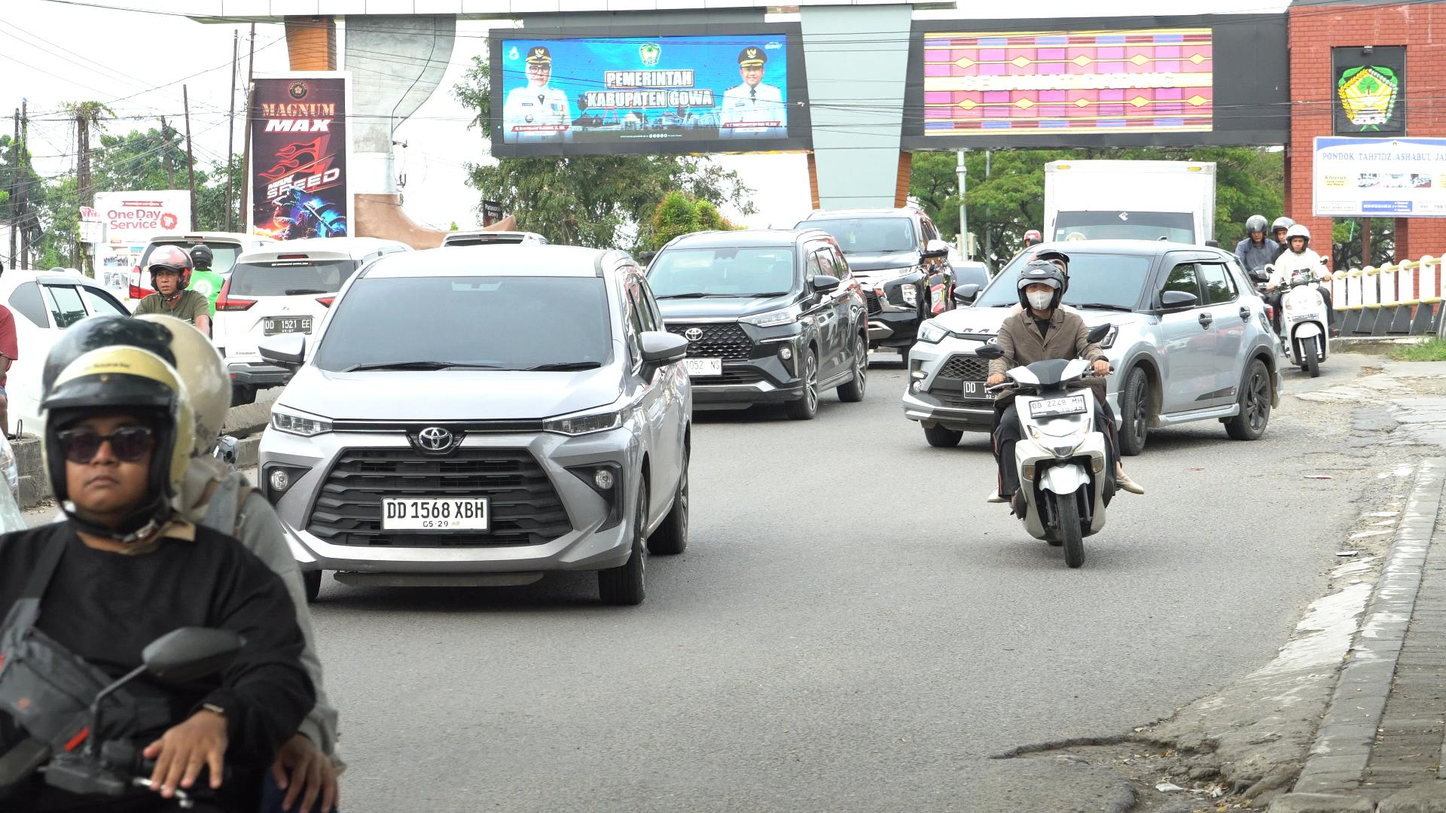number-plate: (1027, 393, 1091, 416)
